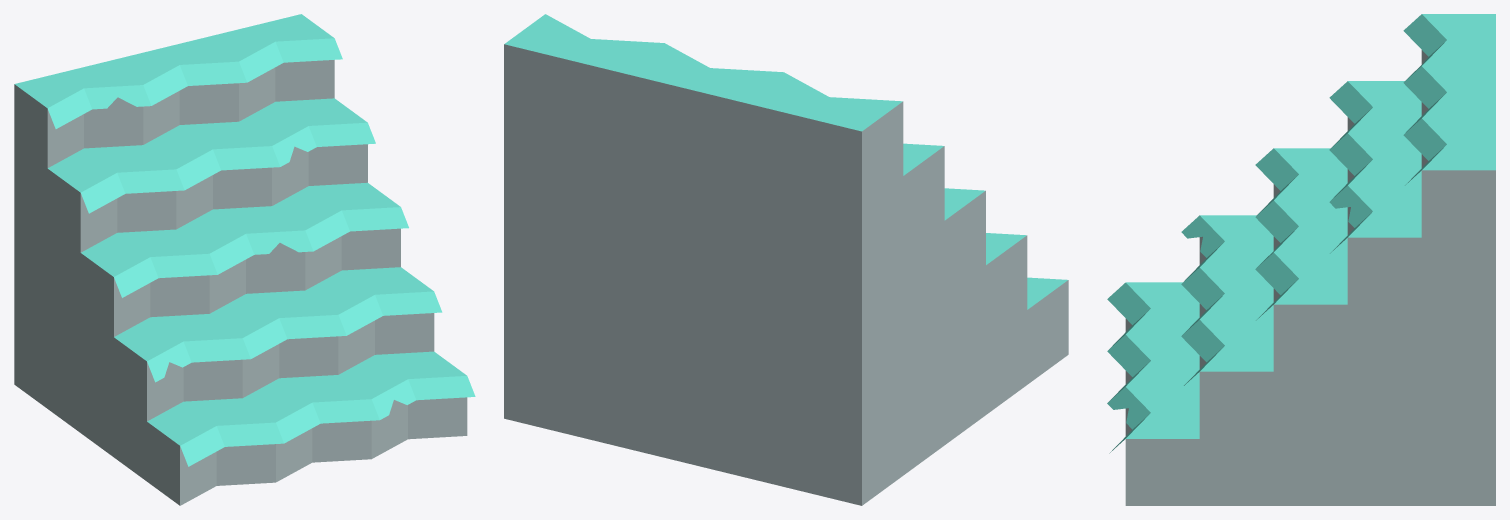
Rendered from cliff_steps_stone.gltf.
The picture shows the model from 3 angles, left to right: view 1: azimuth 30°, elevation 25°; view 2: azimuth 150°, elevation 25°; view 3: azimuth 270°, elevation 25°; orthographic projection. The views are drawn at different scales.
Parts seen in each view (by area): view 1: cliff_steps_stone; view 2: cliff_steps_stone; view 3: cliff_steps_stone.
Boxes of the visible parts, x1,y1,x2,y2 form: cliff_steps_stone: (14, 14, 475, 505); cliff_steps_stone: (504, 14, 1068, 505); cliff_steps_stone: (1107, 14, 1495, 505).
Size of the model in its own units: 1 by 1 by 1.05.
